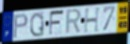7: (103, 5, 116, 33)
F: (48, 9, 66, 37)
H: (83, 6, 102, 34)
P: (13, 13, 29, 40)
Q: (30, 11, 45, 38)
R: (64, 8, 82, 37)
